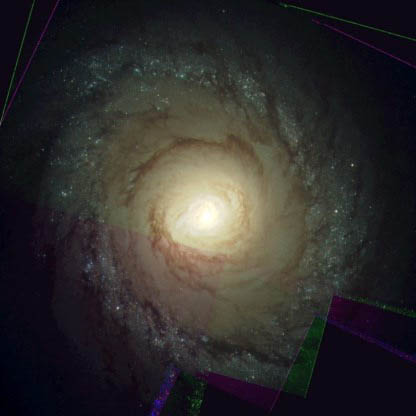Messier 94: (40, 26, 381, 390)
